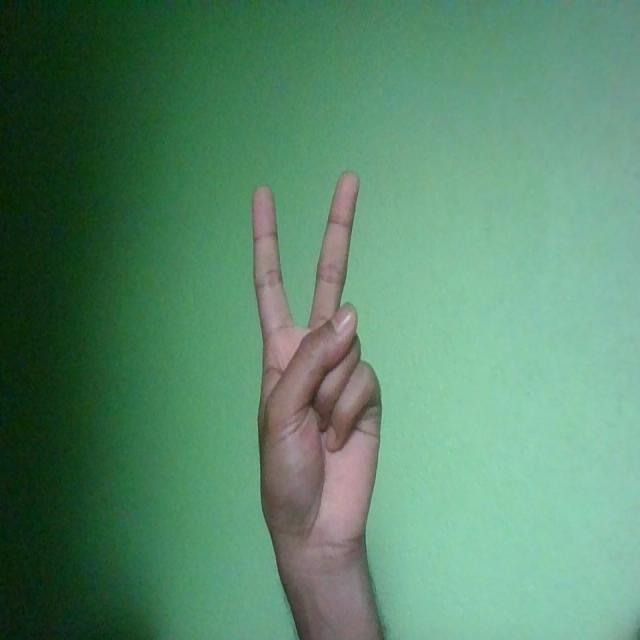Fist: (252, 170, 382, 552)
